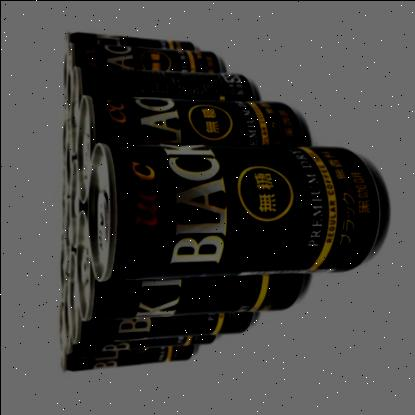Can: (87, 142, 380, 280)
